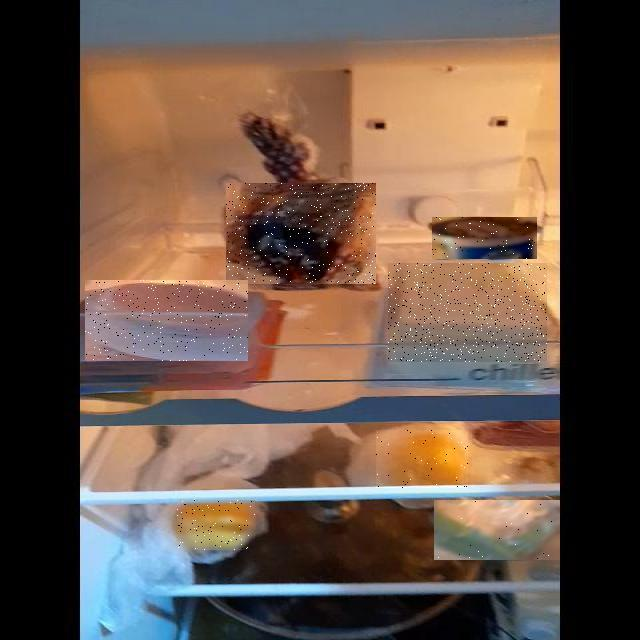cheese: (114, 181, 640, 543)
